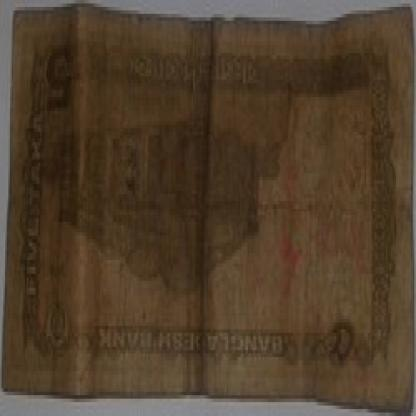Five Taka: (23, 101, 47, 305), (41, 42, 80, 132), (328, 312, 354, 378)
